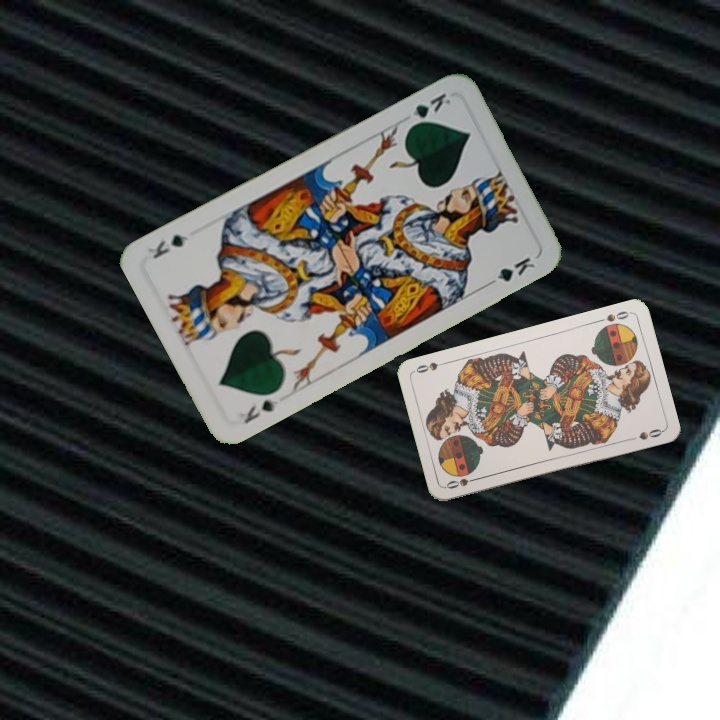GK: (404, 89, 454, 131), (232, 394, 282, 427)
SO: (442, 473, 482, 491), (593, 307, 633, 325)
